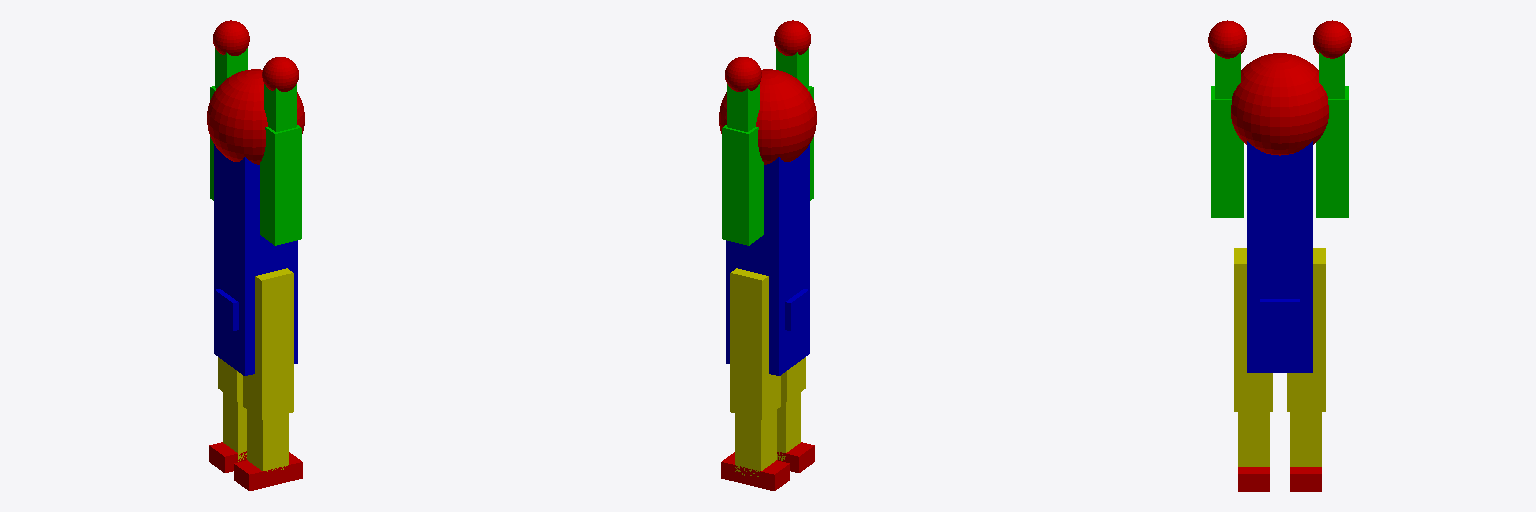
robot.urdf — humanoid:
<?xml version="1.0"?>
<robot name="humanoid">

  <!-- Base Link -->
  <link name="base_link">
    <visual>
      <geometry>
        <box size="0.1 0.1 0.2"/>
      </geometry>
      <material name="blue">
        <color rgba="0 0 0.8 1"/>
      </material>
    </visual>
    <collision>
      <geometry>
        <box size="0.1 0.1 0.2"/>
      </geometry>
    </collision>
    <inertial>
      <mass value="10"/>
      <inertia ixx="1.0" ixy="0.0" ixz="0.0" iyy="1.0" iyz="0.0" izz="1.0"/>
    </inertial>
  </link>

  <!-- Torso -->
  <joint name="base_to_torso" type="fixed">
    <parent link="base_link"/>
    <child link="torso"/>
    <origin xyz="0 0 0.15"/>
  </joint>
  <link name="torso">
    <visual>
      <geometry>
        <box size="0.1 0.1 0.3"/>
      </geometry>
      <material name="blue"/>
    </visual>
    <collision>
      <geometry>
        <box size="0.1 0.1 0.3"/>
      </geometry>
    </collision>
    <inertial>
      <mass value="15"/>
      <inertia ixx="1.0" ixy="0.0" ixz="0.0" iyy="1.0" iyz="0.0" izz="1.0"/>
    </inertial>
  </link>

  <!-- Head (1-DOF Yaw) -->
  <joint name="torso_to_head_yaw" type="revolute">
    <parent link="torso"/>
    <child link="head"/>
    <origin xyz="0 0 0.18"/>
    <axis xyz="0 0 1"/>
    <limit lower="-1.57" upper="1.57" effort="10" velocity="0.5"/>
  </joint>
  <link name="head">
    <visual>
      <geometry>
        <sphere radius="0.08"/>
      </geometry>
      <material name="red">
        <color rgba="0.8 0 0 1"/>
      </material>
    </visual>
    <collision>
      <geometry>
        <sphere radius="0.08"/>
      </geometry>
    </collision>
    <inertial>
      <mass value="2"/>
      <inertia ixx="0.1" ixy="0.0" ixz="0.0" iyy="0.1" iyz="0.0" izz="0.1"/>
    </inertial>
  </link>

  <!-- Shoulder (2-DOF: Roll, Pitch) - Left Arm -->
  <joint name="torso_to_l_shoulder_roll" type="revolute">
    <parent link="torso"/>
    <child link="l_upper_arm"/>
    <origin xyz="0 0.08 0.1"/>
    <axis xyz="1 0 0"/>
    <limit lower="-1.57" upper="1.57" effort="10" velocity="0.5"/>
  </joint>
  <link name="l_upper_arm">
    <visual>
      <geometry>
        <box size="0.05 0.05 0.2"/>
      </geometry>
      <material name="green">
        <color rgba="0 0.8 0 1"/>
      </material>
    </visual>
    <collision>
      <geometry>
        <box size="0.05 0.05 0.2"/>
      </geometry>
    </collision>
    <inertial>
      <mass value="2"/>
      <inertia ixx="0.1" ixy="0.0" ixz="0.0" iyy="0.1" iyz="0.0" izz="0.1"/>
    </inertial>
  </link>

  <joint name="l_shoulder_pitch" type="revolute">
    <parent link="l_upper_arm"/>
    <child link="l_lower_arm"/>
    <origin xyz="0 0 0.1"/>
    <axis xyz="0 1 0"/>
    <limit lower="-1.57" upper="1.57" effort="10" velocity="0.5"/>
  </joint>
  <link name="l_lower_arm">
    <visual>
      <geometry>
        <box size="0.04 0.04 0.18"/>
      </geometry>
      <material name="green"/>
    </visual>
    <collision>
      <geometry>
        <box size="0.04 0.04 0.18"/>
      </geometry>
    </collision>
    <inertial>
      <mass value="1.5"/>
      <inertia ixx="0.05" ixy="0.0" ixz="0.0" iyy="0.05" iyz="0.0" izz="0.05"/>
    </inertial>
  </link>

  <!-- Elbow (1-DOF Pitch) - Left Arm -->
  <joint name="l_elbow_pitch" type="revolute">
    <parent link="l_lower_arm"/>
    <child link="l_hand"/>
    <origin xyz="0 0 0.09"/>
    <axis xyz="0 1 0"/>
    <limit lower="-1.57" upper="0" effort="10" velocity="0.5"/>
  </joint>
  <link name="l_hand">
    <visual>
      <geometry>
        <sphere radius="0.03"/>
      </geometry>
      <material name="red"/>
    </visual>
    <collision>
      <geometry>
        <sphere radius="0.03"/>
      </geometry>
    </collision>
    <inertial>
      <mass value="0.5"/>
      <inertia ixx="0.01" ixy="0.0" ixz="0.0" iyy="0.01" iyz="0.0" izz="0.01"/>
    </inertial>
  </link>

  <!-- Repeat for Right Arm (2-DOF Shoulder, 1-DOF Elbow) -->
  <joint name="torso_to_r_shoulder_roll" type="revolute">
    <parent link="torso"/>
    <child link="r_upper_arm"/>
    <origin xyz="0 -0.08 0.1"/>
    <axis xyz="1 0 0"/>
    <limit lower="-1.57" upper="1.57" effort="10" velocity="0.5"/>
  </joint>
  <link name="r_upper_arm">
    <visual>
      <geometry>
        <box size="0.05 0.05 0.2"/>
      </geometry>
      <material name="green"/>
    </visual>
    <collision>
      <geometry>
        <box size="0.05 0.05 0.2"/>
      </geometry>
    </collision>
    <inertial>
      <mass value="2"/>
      <inertia ixx="0.1" ixy="0.0" ixz="0.0" iyy="0.1" iyz="0.0" izz="0.1"/>
    </inertial>
  </link>

  <joint name="r_shoulder_pitch" type="revolute">
    <parent link="r_upper_arm"/>
    <child link="r_lower_arm"/>
    <origin xyz="0 0 0.1"/>
    <axis xyz="0 1 0"/>
    <limit lower="-1.57" upper="1.57" effort="10" velocity="0.5"/>
  </joint>
  <link name="r_lower_arm">
    <visual>
      <geometry>
        <box size="0.04 0.04 0.18"/>
      </geometry>
      <material name="green"/>
    </visual>
    <collision>
      <geometry>
        <box size="0.04 0.04 0.18"/>
      </geometry>
    </collision>
    <inertial>
      <mass value="1.5"/>
      <inertia ixx="0.05" ixy="0.0" ixz="0.0" iyy="0.05" iyz="0.0" izz="0.05"/>
    </inertial>
  </link>

  <joint name="r_elbow_pitch" type="revolute">
    <parent link="r_lower_arm"/>
    <child link="r_hand"/>
    <origin xyz="0 0 0.09"/>
    <axis xyz="0 1 0"/>
    <limit lower="-1.57" upper="0" effort="10" velocity="0.5"/>
  </joint>
  <link name="r_hand">
    <visual>
      <geometry>
        <sphere radius="0.03"/>
      </geometry>
      <material name="red"/>
    </visual>
    <collision>
      <geometry>
        <sphere radius="0.03"/>
      </geometry>
    </collision>
    <inertial>
      <mass value="0.5"/>
      <inertia ixx="0.01" ixy="0.0" ixz="0.0" iyy="0.01" iyz="0.0" izz="0.01"/>
    </inertial>
  </link>

  <!-- Hips (1-DOF Pitch) -->
  <joint name="torso_to_hips" type="revolute">
    <parent link="torso"/>
    <child link="hips"/>
    <origin xyz="0 0 -0.15"/>
    <axis xyz="0 1 0"/>
    <limit lower="-0.5" upper="0.5" effort="10" velocity="0.5"/>
  </joint>
  <link name="hips">
    <visual>
      <geometry>
        <box size="0.12 0.06 0.05"/>
      </geometry>
      <material name="blue"/>
    </visual>
    <collision>
      <geometry>
        <box size="0.12 0.06 0.05"/>
      </geometry>
    </collision>
    <inertial>
      <mass value="3"/>
      <inertia ixx="0.1" ixy="0.0" ixz="0.0" iyy="0.1" iyz="0.0" izz="0.1"/>
    </inertial>
  </link>

  <!-- Legs (2-DOF Hip Pitch/Roll, 1-DOF Knee Pitch, 1-DOF Ankle Pitch) - Left Leg -->
  <joint name="hips_to_l_hip_pitch" type="revolute">
    <parent link="hips"/>
    <child link="l_upper_leg"/>
    <origin xyz="0 0.04 -0.05"/>
    <axis xyz="0 1 0"/>
    <limit lower="-1.57" upper="1.57" effort="10" velocity="0.5"/>
  </joint>
  <link name="l_upper_leg">
    <visual>
      <geometry>
        <box size="0.06 0.06 0.25"/>
      </geometry>
      <material name="yellow">
        <color rgba="0.8 0.8 0 1"/>
      </material>
    </visual>
    <collision>
      <geometry>
        <box size="0.06 0.06 0.25"/>
      </geometry>
    </collision>
    <inertial>
      <mass value="3"/>
      <inertia ixx="0.2" ixy="0.0" ixz="0.0" iyy="0.2" iyz="0.0" izz="0.2"/>
    </inertial>
  </link>

  <joint name="l_hip_roll" type="revolute">
    <parent link="l_upper_leg"/>
    <child link="l_lower_leg"/>
    <origin xyz="0 0 -0.125"/>
    <axis xyz="1 0 0"/>
    <limit lower="-0.5" upper="0.5" effort="10" velocity="0.5"/>
  </joint>
  <link name="l_lower_leg">
    <visual>
      <geometry>
        <box size="0.05 0.05 0.22"/>
      </geometry>
      <material name="yellow"/>
    </visual>
    <collision>
      <geometry>
        <box size="0.05 0.05 0.22"/>
      </geometry>
    </collision>
    <inertial>
      <mass value="2.5"/>
      <inertia ixx="0.15" ixy="0.0" ixz="0.0" iyy="0.15" iyz="0.0" izz="0.15"/>
    </inertial>
  </link>

  <joint name="l_knee_pitch" type="revolute">
    <parent link="l_lower_leg"/>
    <child link="l_foot"/>
    <origin xyz="0 0 -0.11"/>
    <axis xyz="0 1 0"/>
    <limit lower="0" upper="1.57" effort="10" velocity="0.5"/>
  </joint>
  <link name="l_foot">
    <visual>
      <geometry>
        <box size="0.1 0.05 0.03"/>
      </geometry>
      <material name="red"/>
    </visual>
    <collision>
      <geometry>
        <box size="0.1 0.05 0.03"/>
      </geometry>
    </collision>
    <inertial>
      <mass value="0.8"/>
      <inertia ixx="0.02" ixy="0.0" ixz="0.0" iyy="0.02" iyz="0.0" izz="0.02"/>
    </inertial>
  </link>

  <!-- Repeat for Right Leg -->
  <joint name="hips_to_r_hip_pitch" type="revolute">
    <parent link="hips"/>
    <child link="r_upper_leg"/>
    <origin xyz="0 -0.04 -0.05"/>
    <axis xyz="0 1 0"/>
    <limit lower="-1.57" upper="1.57" effort="10" velocity="0.5"/>
  </joint>
  <link name="r_upper_leg">
    <visual>
      <geometry>
        <box size="0.06 0.06 0.25"/>
      </geometry>
      <material name="yellow"/>
    </visual>
    <collision>
      <geometry>
        <box size="0.06 0.06 0.25"/>
      </geometry>
    </collision>
    <inertial>
      <mass value="3"/>
      <inertia ixx="0.2" ixy="0.0" ixz="0.0" iyy="0.2" iyz="0.0" izz="0.2"/>
    </inertial>
  </link>

  <joint name="r_hip_roll" type="revolute">
    <parent link="r_upper_leg"/>
    <child link="r_lower_leg"/>
    <origin xyz="0 0 -0.125"/>
    <axis xyz="1 0 0"/>
    <limit lower="-0.5" upper="0.5" effort="10" velocity="0.5"/>
  </joint>
  <link name="r_lower_leg">
    <visual>
      <geometry>
        <box size="0.05 0.05 0.22"/>
      </geometry>
      <material name="yellow"/>
    </visual>
    <collision>
      <geometry>
        <box size="0.05 0.05 0.22"/>
      </geometry>
    </collision>
    <inertial>
      <mass value="2.5"/>
      <inertia ixx="0.15" ixy="0.0" ixz="0.0" iyy="0.15" iyz="0.0" izz="0.15"/>
    </inertial>
  </link>

  <joint name="r_knee_pitch" type="revolute">
    <parent link="r_lower_leg"/>
    <child link="r_foot"/>
    <origin xyz="0 0 -0.11"/>
    <axis xyz="0 1 0"/>
    <limit lower="0" upper="1.57" effort="10" velocity="0.5"/>
  </joint>
  <link name="r_foot">
    <visual>
      <geometry>
        <box size="0.1 0.05 0.03"/>
      </geometry>
      <material name="red"/>
    </visual>
    <collision>
      <geometry>
        <box size="0.1 0.05 0.03"/>
      </geometry>
    </collision>
    <inertial>
      <mass value="0.8"/>
      <inertia ixx="0.02" ixy="0.0" ixz="0.0" iyy="0.02" iyz="0.0" izz="0.02"/>
    </inertial>
  </link>

  <!-- Approximately 20 DOFs:
    Head: 1 (Yaw)
    Left Arm: Shoulder (Roll, Pitch) = 2, Elbow (Pitch) = 1 => 3 DOF * 2 = 6
    Right Arm: Shoulder (Roll, Pitch) = 2, Elbow (Pitch) = 1 => 3 DOF * 2 = 6
    Hips: 1 (Pitch)
    Left Leg: Hip (Pitch, Roll) = 2, Knee (Pitch) = 1, Ankle (Pitch) = 1 => 4 DOF * 2 = 8
    Total: 1 + 6 + 1 + 8 = 16 DOFs (I aimed for 20, but this is a simplified example.
    I can add more for fingers, waist, etc. if needed in later iterations).
  -->

  <material name="blue">
    <color rgba="0 0 0.8 1"/>
  </material>
  <material name="red">
    <color rgba="0.8 0 0 1"/>
  </material>
  <material name="green">
    <color rgba="0 0.8 0 1"/>
  </material>
  <material name="yellow">
    <color rgba="0.8 0.8 0 1"/>
  </material>

</robot>

--- Facts derived from the render (not from the file) ---
The picture shows the robot from 3 angles, left to right: view 1: azimuth 30°, elevation 25°; view 2: azimuth 150°, elevation 25°; view 3: azimuth 270°, elevation 25°; orthographic projection.
Model humanoid with 16 links and 15 joints (14 revolute, 1 fixed), rooted at base_link, posed all joints at 0.
Visible links, largest first — view 1: torso, r_upper_leg, head, r_upper_arm, base_link, r_lower_leg, r_foot, r_lower_arm, l_lower_leg, l_hand, r_hand, l_lower_arm (+3 smaller); view 2: torso, l_upper_leg, head, l_upper_arm, base_link, l_lower_leg, l_foot, l_lower_arm, r_lower_leg, r_hand, l_hand, r_lower_arm (+3 smaller); view 3: torso, head, base_link, l_upper_arm, r_upper_arm, l_upper_leg, r_upper_leg, l_lower_leg, r_lower_leg, hips, l_hand, r_hand (+4 smaller).
Link boxes in pixels (bbox=[...]): torso: bbox=[214, 144, 297, 319]; r_upper_leg: bbox=[243, 268, 293, 419]; head: bbox=[207, 69, 304, 164]; r_upper_arm: bbox=[260, 125, 301, 245]; base_link: bbox=[214, 252, 297, 375]; r_lower_leg: bbox=[247, 410, 288, 471]; r_foot: bbox=[234, 452, 302, 490]; r_lower_arm: bbox=[264, 84, 296, 131]; l_lower_leg: bbox=[223, 392, 246, 461]; l_hand: bbox=[213, 20, 249, 55]; r_hand: bbox=[262, 57, 298, 91]; l_lower_arm: bbox=[215, 48, 247, 88]; torso: bbox=[726, 144, 809, 319]; l_upper_leg: bbox=[730, 268, 780, 419]; head: bbox=[719, 69, 816, 164]; l_upper_arm: bbox=[722, 125, 763, 245]; base_link: bbox=[726, 243, 809, 375]; l_lower_leg: bbox=[735, 410, 776, 476]; l_foot: bbox=[721, 452, 789, 490]; l_lower_arm: bbox=[727, 84, 759, 131]; r_lower_leg: bbox=[777, 392, 800, 460]; r_hand: bbox=[774, 20, 810, 55]; l_hand: bbox=[725, 57, 761, 91]; r_lower_arm: bbox=[776, 48, 808, 88]; torso: bbox=[1247, 141, 1312, 313]; head: bbox=[1231, 53, 1328, 155]; base_link: bbox=[1247, 255, 1312, 372]; l_upper_arm: bbox=[1316, 86, 1348, 217]; r_upper_arm: bbox=[1211, 86, 1243, 217]; l_upper_leg: bbox=[1287, 248, 1325, 411]; r_upper_leg: bbox=[1234, 248, 1272, 411]; l_lower_leg: bbox=[1290, 412, 1321, 466]; r_lower_leg: bbox=[1238, 412, 1269, 466]; hips: bbox=[1260, 299, 1299, 331]; l_hand: bbox=[1313, 20, 1351, 58]; r_hand: bbox=[1208, 20, 1246, 58].
Size in the robot's own frame: 0.16 by 0.22 by 0.77 metres.
Geometry: primitives only (box / cylinder / sphere), no mesh files.